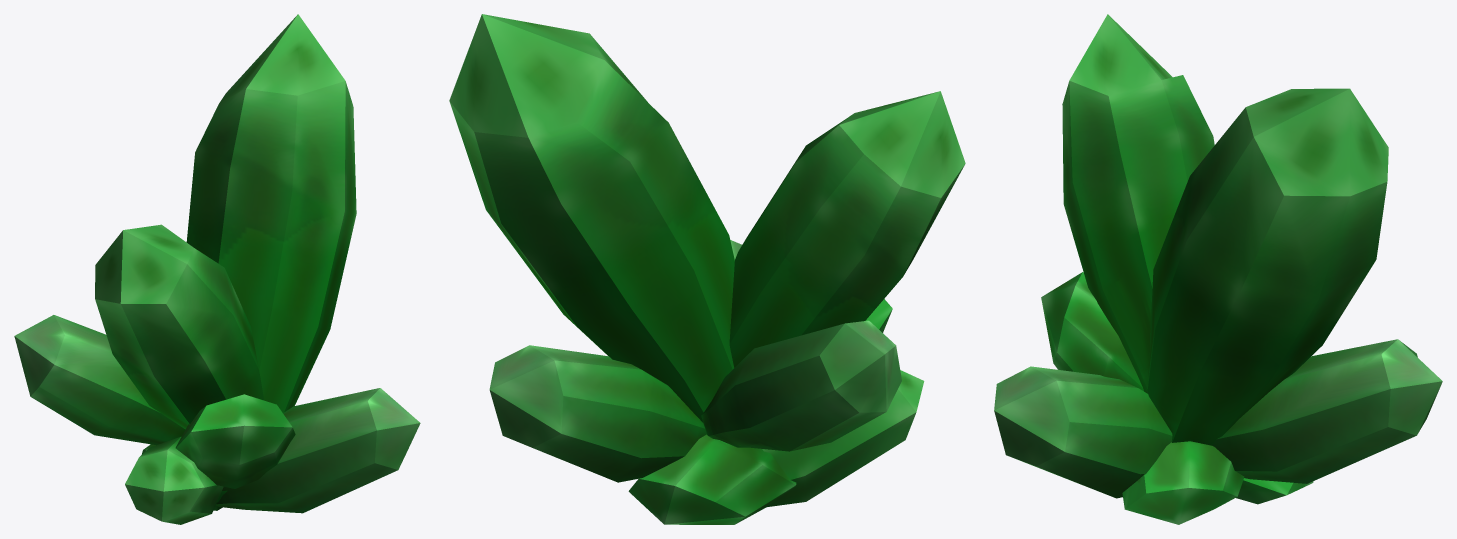
File: Esmeralda.fbx
3 views of the same model, side by side, from view 1: azimuth 30°, elevation 25°; view 2: azimuth 150°, elevation 25°; view 3: azimuth 270°, elevation 25° (orthographic). The views are drawn at different scales.
Visible parts, largest first — view 1: Esmeralda; view 2: Esmeralda; view 3: Esmeralda.
Part boxes in pixels (bbox=[...]): Esmeralda: bbox=[14, 14, 420, 524]; Esmeralda: bbox=[449, 14, 965, 524]; Esmeralda: bbox=[994, 14, 1442, 524].
Bounding box in the file's own units: 76.73 × 90.95 × 75.75.
Materials: 1 (1 with a texture image).
